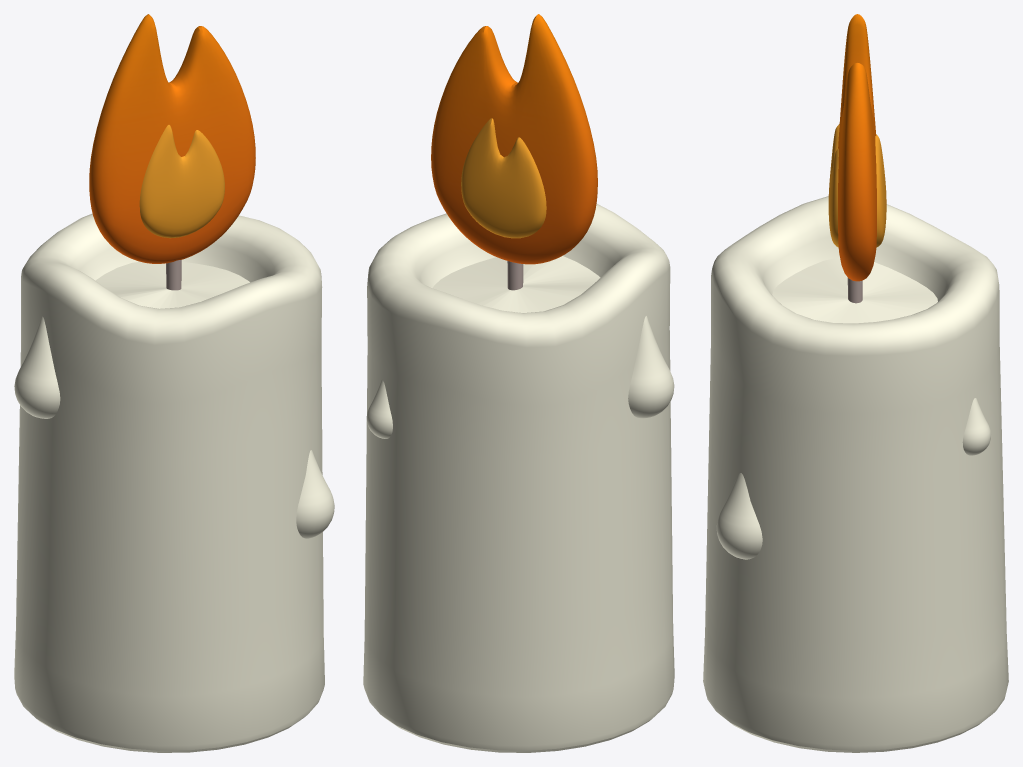
Rendered from candle.gltf.
3 views of the same model, side by side, from view 1: azimuth 30°, elevation 25°; view 2: azimuth 150°, elevation 25°; view 3: azimuth 270°, elevation 25° (orthographic). The views are drawn at different scales.
Parts seen in each view (by area): view 1: Cylinder.498; view 2: Cylinder.498; view 3: Cylinder.498.
Part boxes in pixels (<box>): Cylinder.498: <box>14,14,334,752</box>; Cylinder.498: <box>363,14,674,752</box>; Cylinder.498: <box>703,14,1008,752</box>.
Bounding box in the file's own units: 0.9954 × 2.27 × 0.9391.
2 materials, 2 textured.
